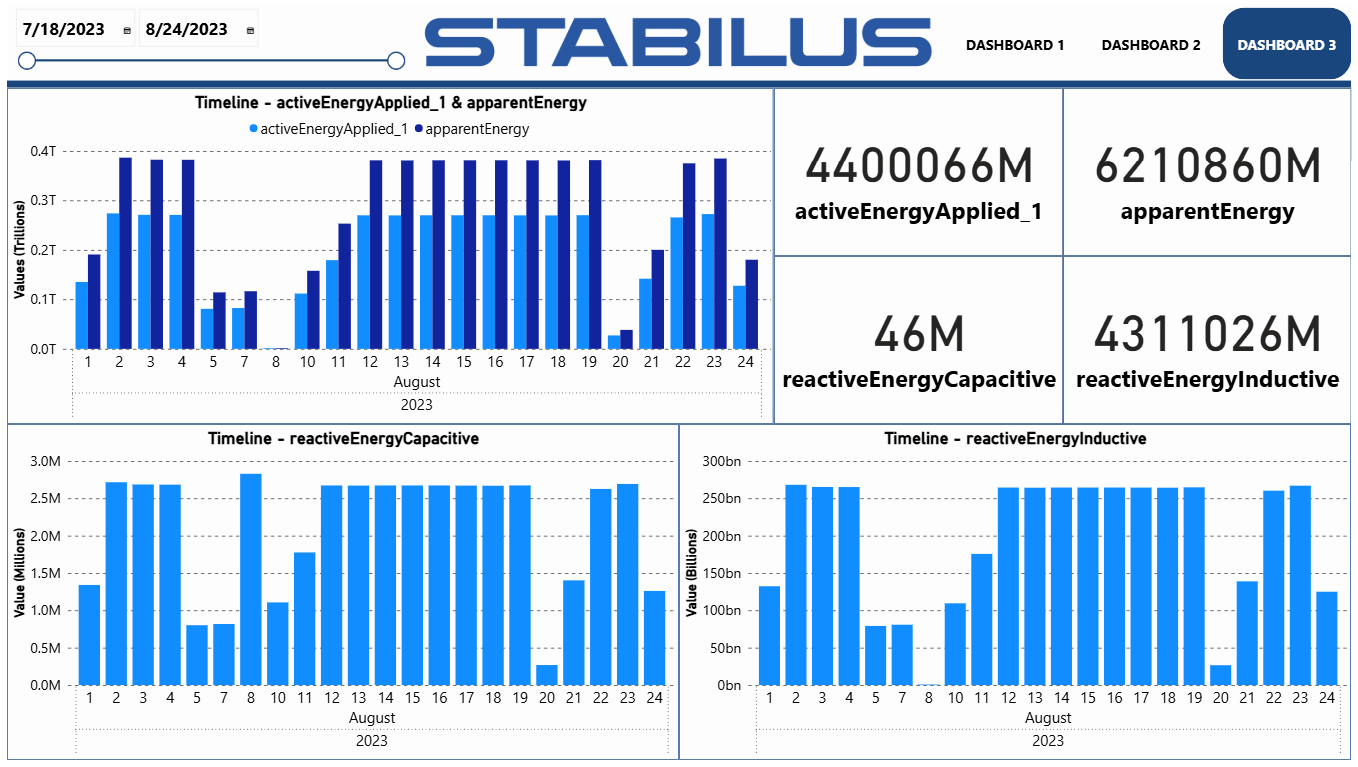

Layout of this report page (visuals, bound fields, positions):
{"tool":"powerbi","page":{"name":"DASHBOARD 3","canvas":[1920,1080],"ordinal":2},"visuals":[{"type":"shape","box":[0,0,1920,1080],"z":0},{"type":"image","box":[590,0,738,108],"z":1000},{"type":"pageNavigator","box":[1348,0,572,108],"z":2000},{"type":"slicer","fields":{"Values":["Power monitoring - counter data.date_time"]},"box":[0,0,572,108],"z":3000},{"type":"shape","box":[0,108.3,1920,11.7],"z":4000},{"type":"lineClusteredColumnComboChart","title":"Timeline - reactiveEnergyInductive","fields":{"Y":["Sum(Power monitoring - counter data.reactiveEnergyInductive)"],"Category":["Power monitoring - counter data.date_time.Variation.Date Hierarchy.Year","Power monitoring - counter data.date_time.Variation.Date Hierarchy.Month","Power monitoring - counter data.date_time.Variation.Date Hierarchy.Day"]},"box":[960,600,960,480],"z":5000},{"type":"lineClusteredColumnComboChart","title":"Timeline - reactiveEnergyCapacitive","fields":{"Category":["Power monitoring - counter data.date_time.Variation.Date Hierarchy.Year","Power monitoring - counter data.date_time.Variation.Date Hierarchy.Month","Power monitoring - counter data.date_time.Variation.Date Hierarchy.Day"],"Y":["Sum(Power monitoring - counter data.reactiveEnergyCapacitive)"]},"box":[0,600,960,480],"z":6000},{"type":"lineClusteredColumnComboChart","title":"Timeline - activeEnergyApplied_1 & apparentEnergy","fields":{"Category":["Power monitoring - counter data.date_time.Variation.Date Hierarchy.Year","Power monitoring - counter data.date_time.Variation.Date Hierarchy.Month","Power monitoring - counter data.date_time.Variation.Date Hierarchy.Day"],"Y":["Sum(Power monitoring - counter data.activeEnergyApplied_1)","Sum(Power monitoring - counter data.apparentEnergy)"]},"box":[0,120,1095,480],"z":7000},{"type":"card","fields":{"Values":["Sum(Power monitoring - counter data.activeEnergyApplied_1)"]},"box":[1095,120,413.3,240],"z":8000},{"type":"card","fields":{"Values":["Sum(Power monitoring - counter data.apparentEnergy)"]},"box":[1508.3,120,411.7,240],"z":9000},{"type":"card","fields":{"Values":["Sum(Power monitoring - counter data.reactiveEnergyInductive)"]},"box":[1508.3,360,411.7,240],"z":10000},{"type":"card","fields":{"Values":["Sum(Power monitoring - counter data.reactiveEnergyCapacitive)"]},"box":[1095,360,413.3,240],"z":11000}]}

Visuals, with their boxes in screenshot pixels (x1, y1, x2, y2), scaled from the page's 1920x1080 canvas onto the 1358x767 screenshot:
shape: bbox(0, 0, 1357, 766)
image: bbox(417, 0, 939, 77)
pageNavigator: bbox(953, 0, 1357, 77)
slicer - Power monitoring - counter data.date_time: bbox(0, 0, 405, 77)
shape: bbox(0, 77, 1357, 85)
"Timeline - reactiveEnergyInductive" lineClusteredColumnComboChart: bbox(679, 426, 1357, 766)
"Timeline - reactiveEnergyCapacitive" lineClusteredColumnComboChart: bbox(0, 426, 679, 766)
"Timeline - activeEnergyApplied_1 & apparentEnergy" lineClusteredColumnComboChart: bbox(0, 85, 774, 426)
card - Sum(Power monitoring - counter data.activeEnergyApplied_1): bbox(774, 85, 1067, 256)
card - Sum(Power monitoring - counter data.apparentEnergy): bbox(1067, 85, 1357, 256)
card - Sum(Power monitoring - counter data.reactiveEnergyInductive): bbox(1067, 256, 1357, 426)
card - Sum(Power monitoring - counter data.reactiveEnergyCapacitive): bbox(774, 256, 1067, 426)
